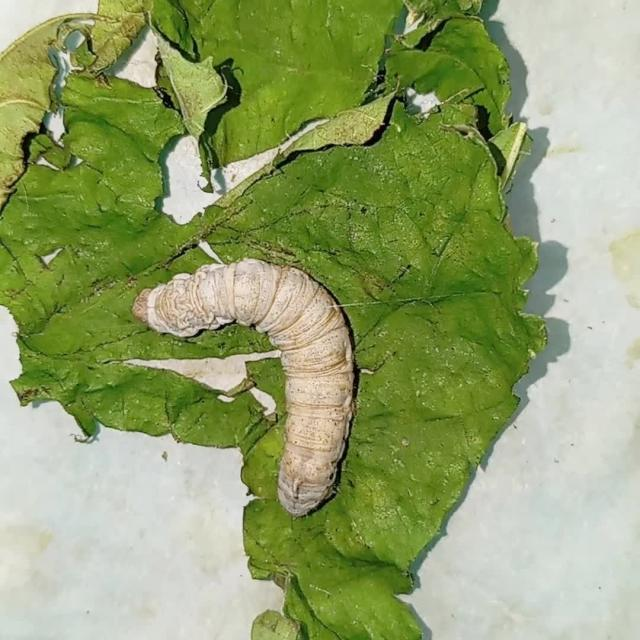Grasserie: (108, 208, 425, 544)
